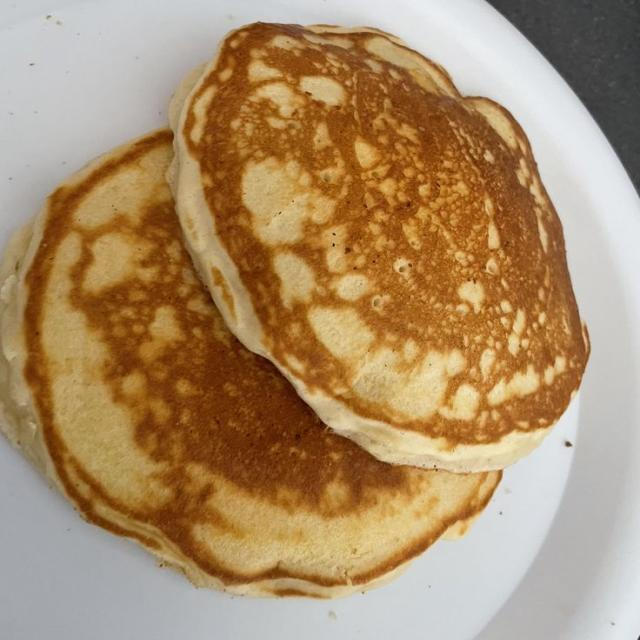pancake: (0, 130, 499, 596), (169, 24, 588, 471)
